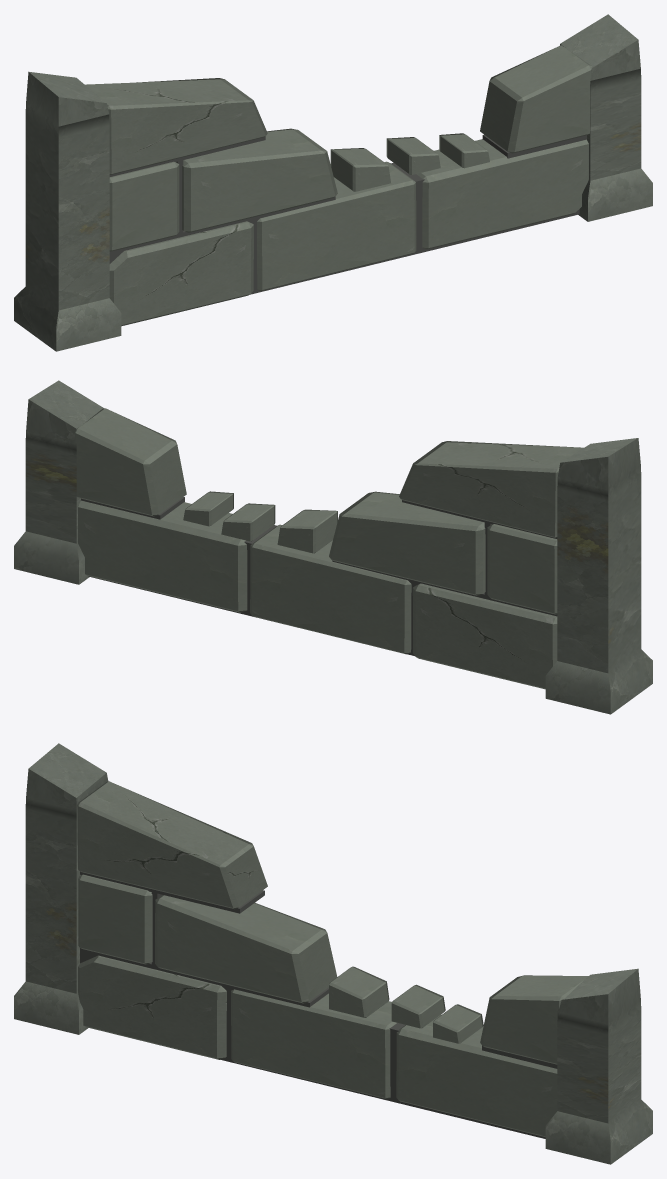
Rendered from Wall001BROKEN_001.fbx.
3 views of the same model, one above another, from view 1: azimuth 30°, elevation 25°; view 2: azimuth 150°, elevation 25°; view 3: azimuth 330°, elevation 25° (orthographic).
Visible parts, largest first — view 1: Wall001BROKEN_001; view 2: Wall001BROKEN_001; view 3: Wall001BROKEN_001.
Boxes of the visible parts, x1,y1,x2,y2 form: Wall001BROKEN_001: [14, 14, 652, 351]; Wall001BROKEN_001: [14, 380, 652, 714]; Wall001BROKEN_001: [14, 743, 652, 1164].
Bounding box in the file's own units: 104 × 41.91 × 12.74.
Materials: 5 (4 with a texture image).
